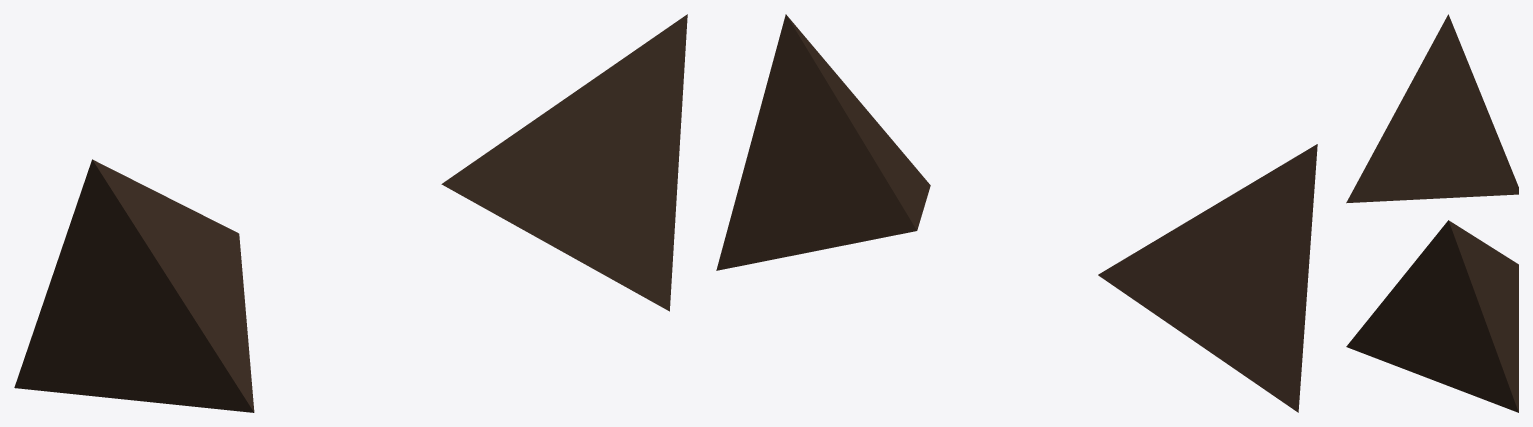
Rendered from acc_kemo.glb.
3 views of the same model, side by side, from view 1: azimuth 30°, elevation 25°; view 2: azimuth 150°, elevation 25°; view 3: azimuth 270°, elevation 25° (orthographic). The views are drawn at different scales.
Visible parts, largest first — view 1: hair; view 2: hair; view 3: hair.
Boxes of the visible parts, x1,y1,x2,y2 form: hair: (14,14,687,412); hair: (716,14,1317,412); hair: (1346,14,1518,412).
Size of the model in its own units: 0.416 by 0.1574 by 0.1347.
